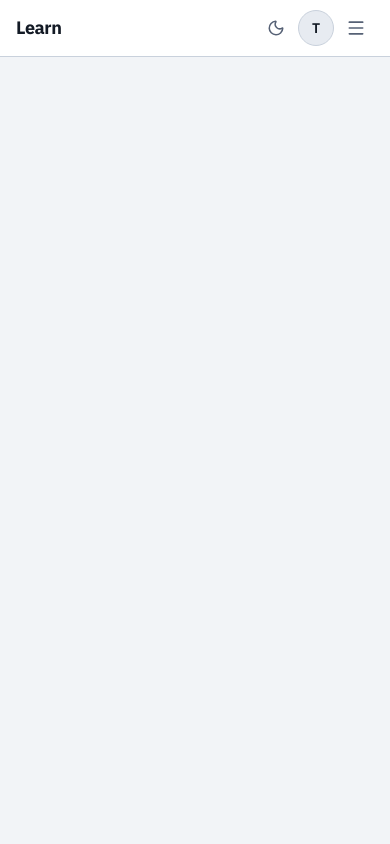
Test: TopBar › collapses the links into a menu button on small screens
Click the button named "Menu". click: (356, 28)
box: [338,10,374,46]
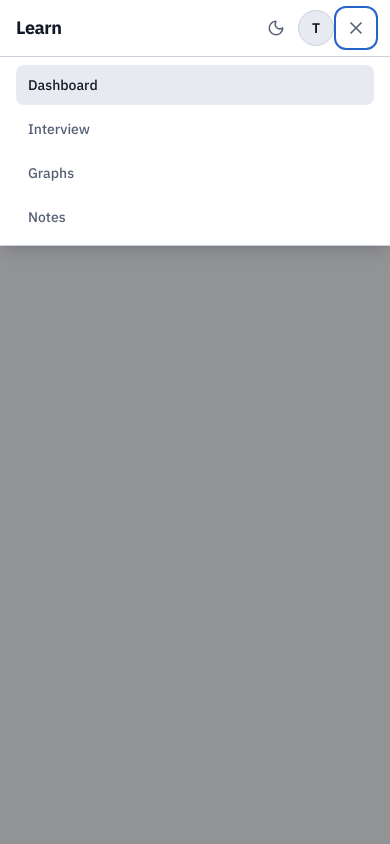
Result: the button named "Menu" is expanded at [338,10,374,46]
Result: the number of links "Notes" is 2
